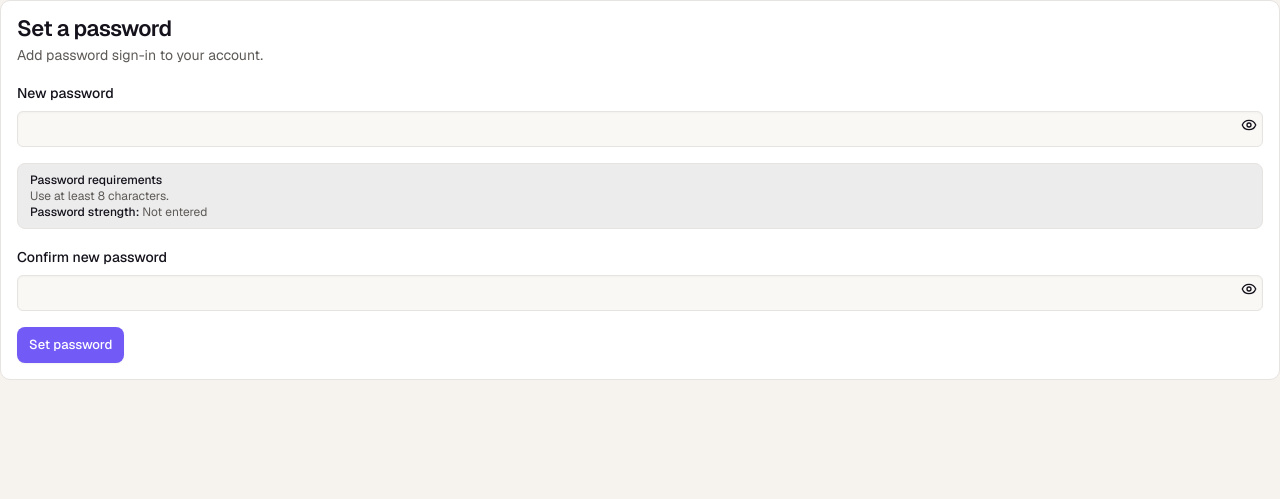
PasswordSetupForm › requests reauthentication in setup mode and retries setup with the nonce
The image size is (1280, 499).
Later steps or results of the test are not shown.
Type "new-secret" into the password field labelled "New password" at [640, 129], box [17, 111, 1263, 147]
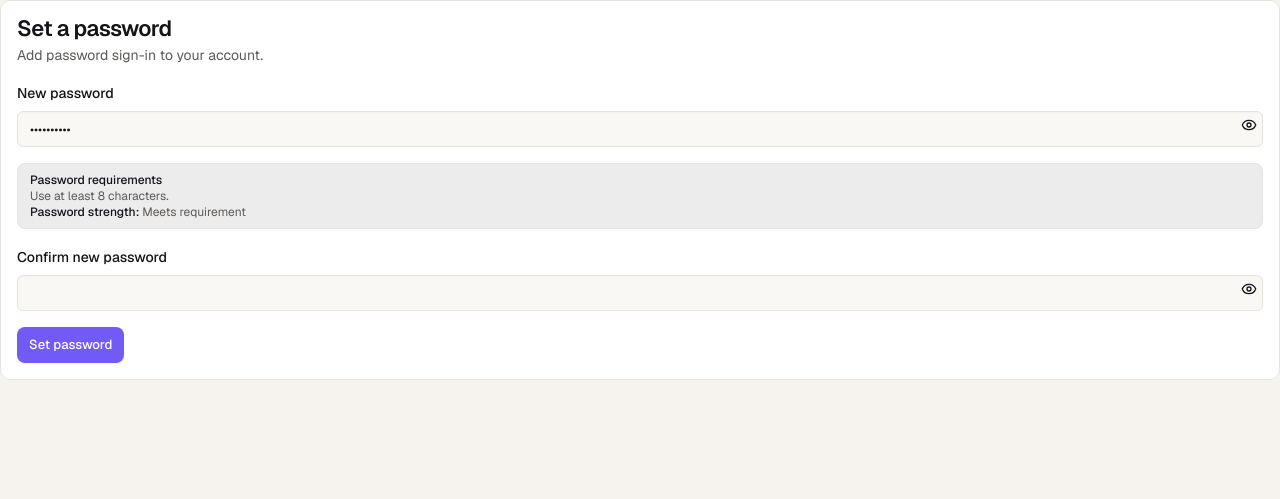
Type "new-secret" into the password field labelled "Confirm new password" at [640, 293], box [17, 275, 1263, 311]
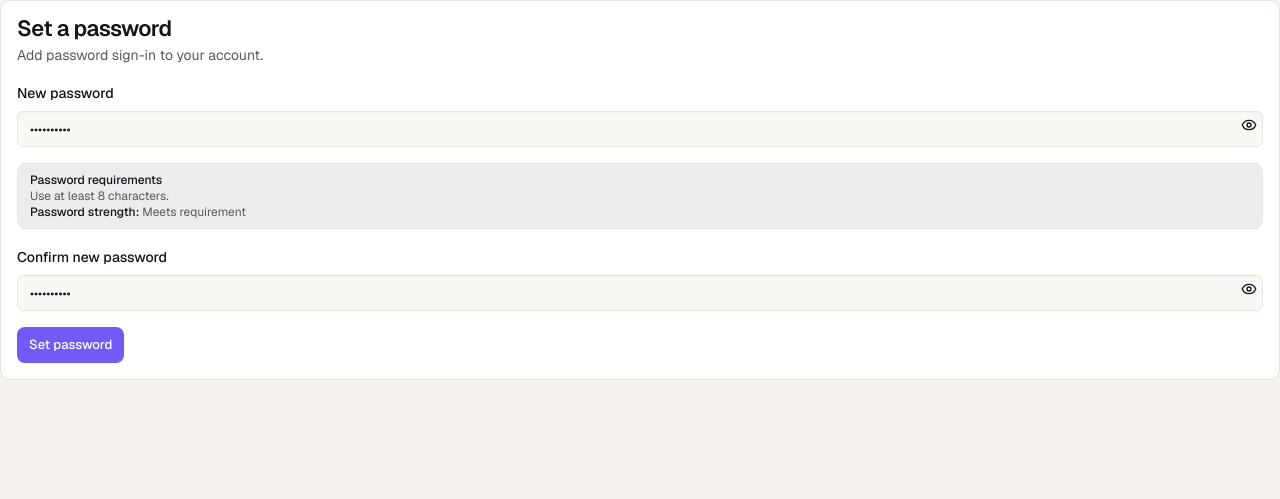
Click the button "Set password" at [71, 345], box [17, 327, 124, 363]
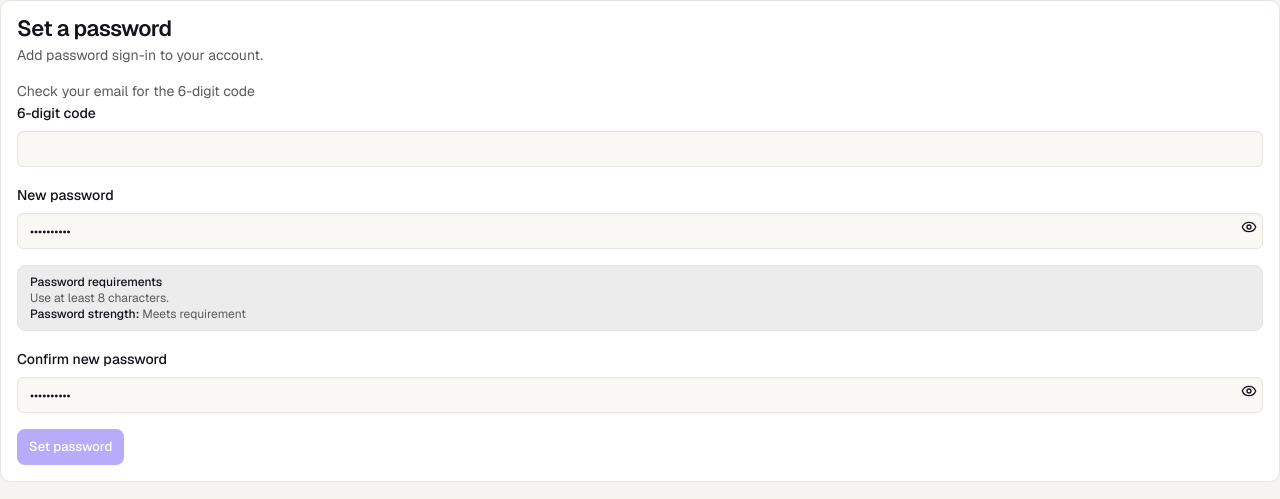
Now the text "Check your email for the 6-digit code" is shown, box [17, 82, 255, 100]
